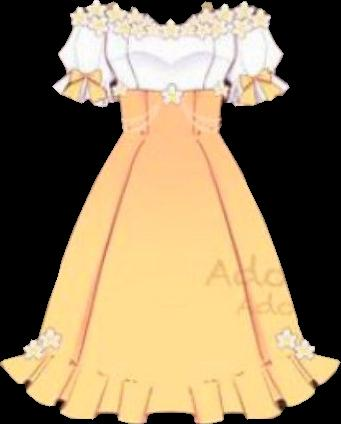Bodice: (69, 0, 272, 91)
Hemline: (0, 357, 340, 423)
Neckline: (65, 0, 271, 30)
Skirt: (0, 83, 339, 423)
Sleeve: (52, 27, 115, 106), (225, 29, 289, 106)
Sleeveline: (228, 67, 279, 86), (65, 68, 113, 83), (72, 24, 107, 41), (237, 24, 267, 41)
Waistline: (116, 81, 224, 94)
